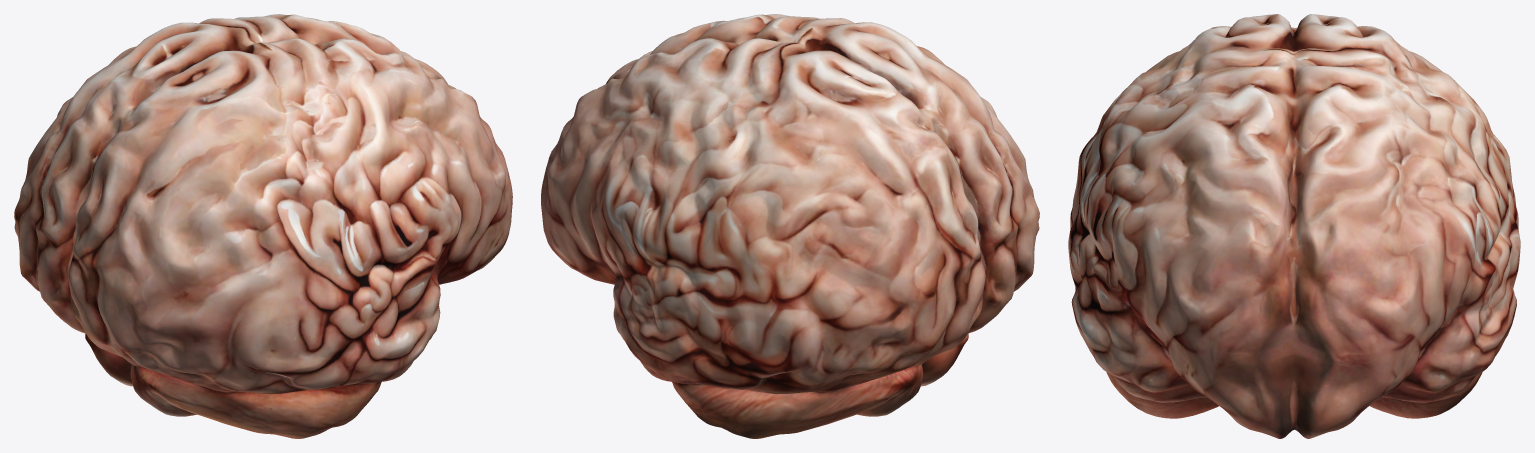
The picture shows the model from 3 angles, left to right: view 1: azimuth 30°, elevation 25°; view 2: azimuth 150°, elevation 25°; view 3: azimuth 270°, elevation 25°; orthographic projection. The views are drawn at different scales.
Bounding box in the file's own units: 1.99 × 1.53 × 1.71.
Materials: 1 (1 with a texture image).
